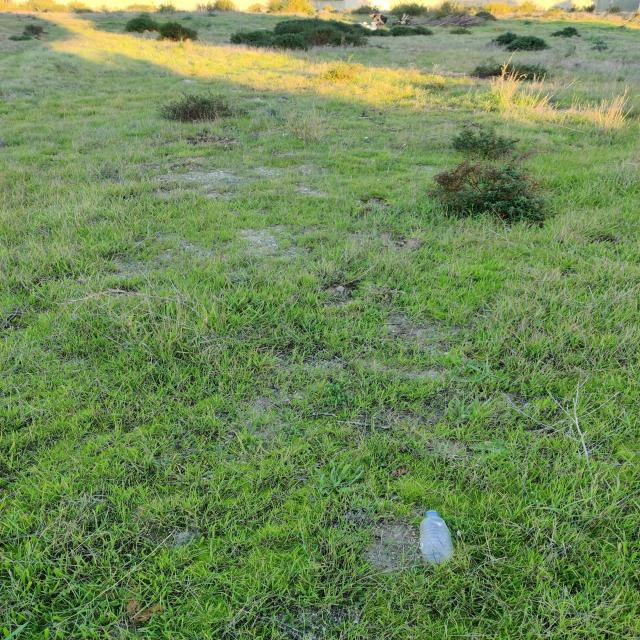litter: (420, 511, 454, 563)
